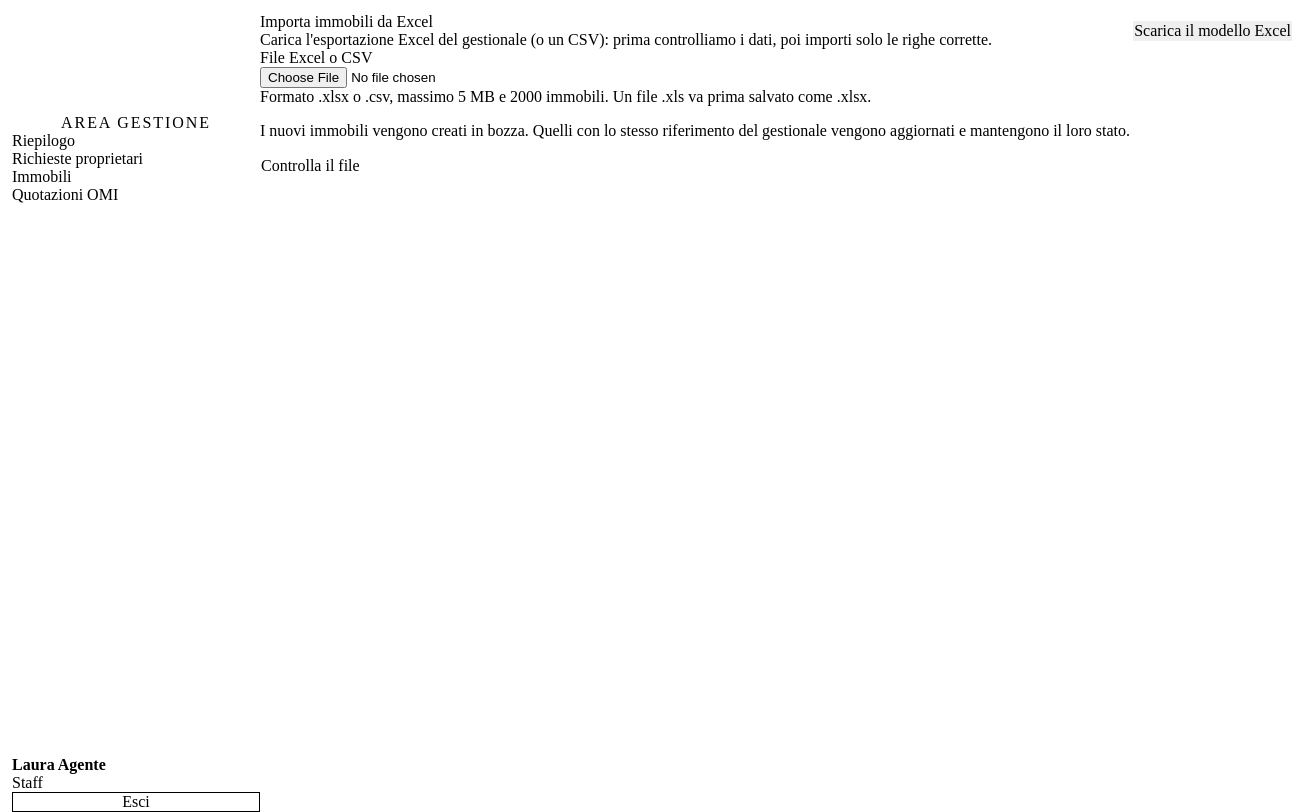
it: Excel import › imports the valid rows of the same file and reports the result
Earlier steps of the test are not shown.
Click the button "Controlla il file" at (310, 166), box [260, 156, 361, 176]
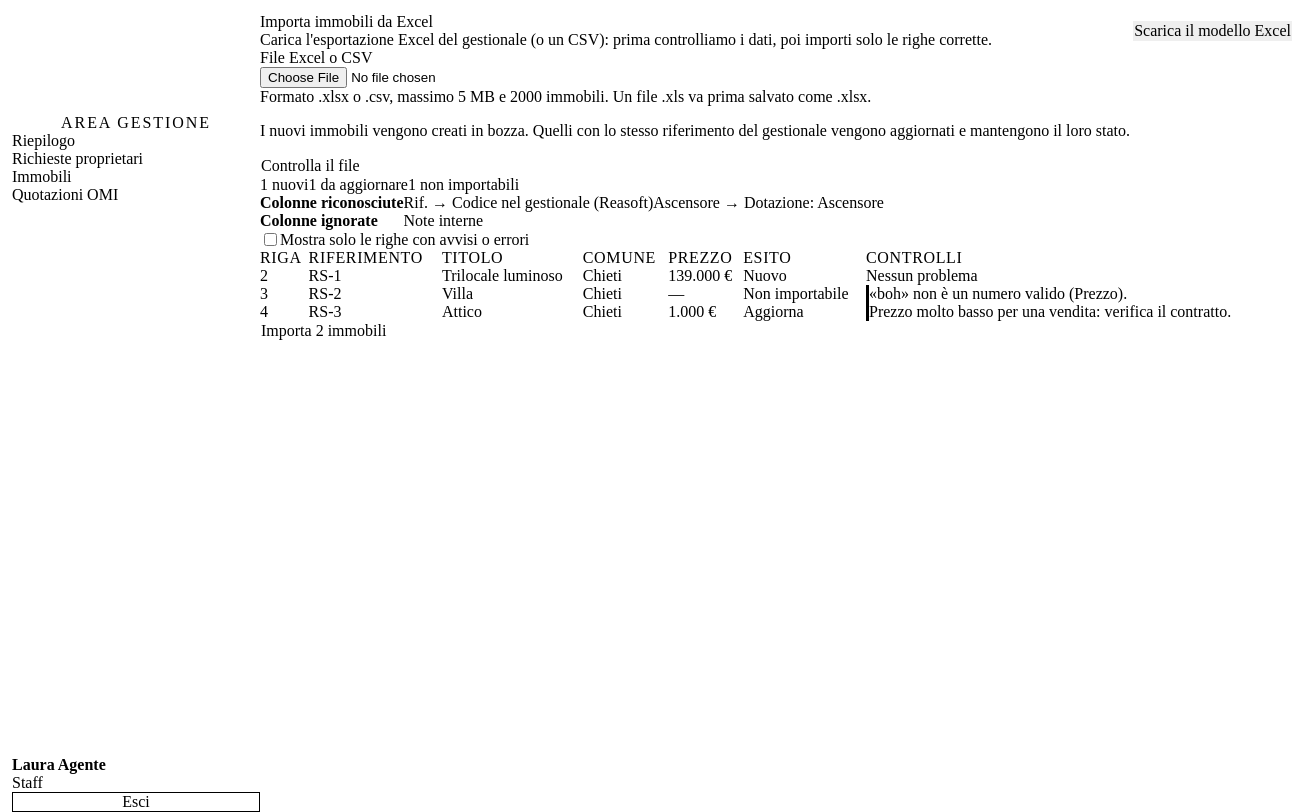
Click the button "Importa 2 immobili" at (324, 331), box [260, 321, 387, 341]
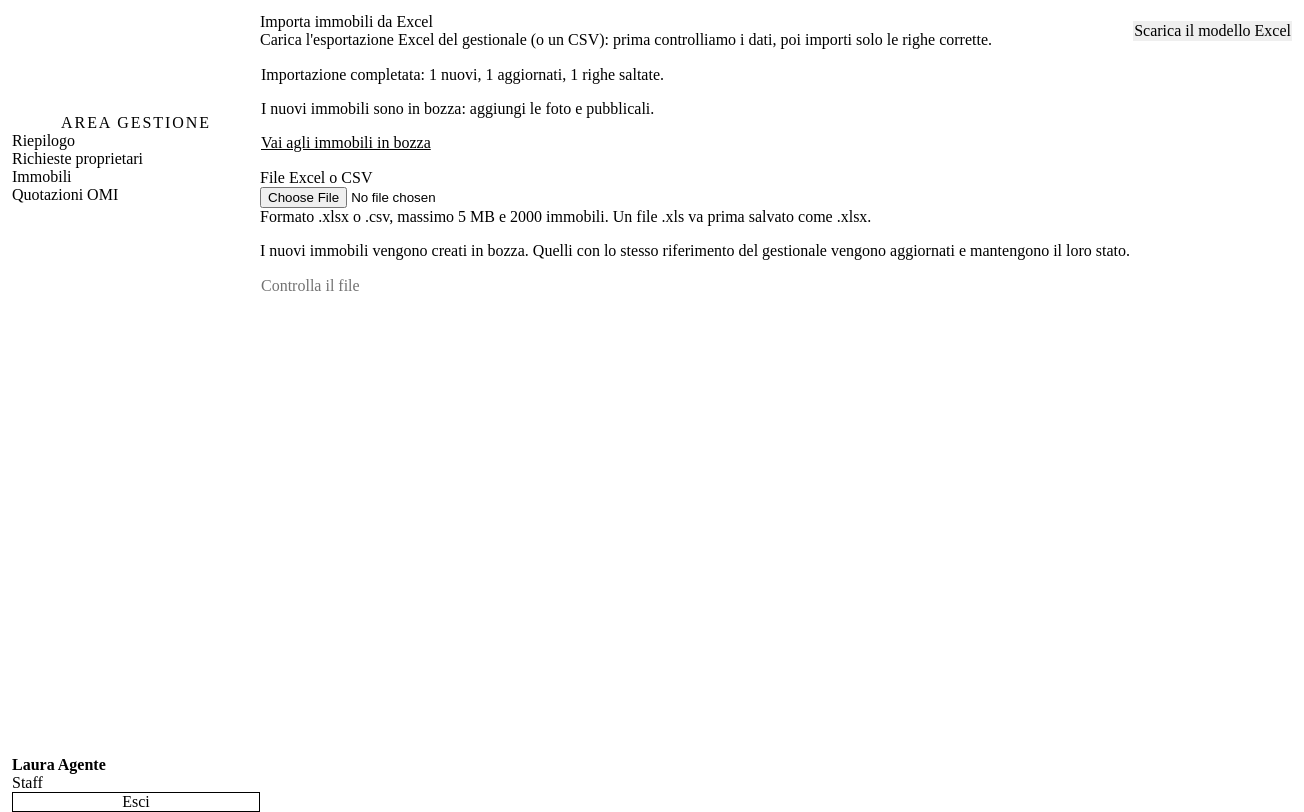
Check: the text "Importazione completata: 1 nuovi, 1 aggiornati, 1 righe saltate." is shown, box [261, 66, 664, 83]
Check: the link "Vai agli immobili in bozza" is shown, box [261, 134, 431, 152]
